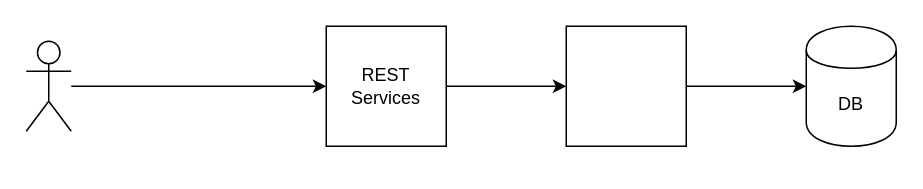
Some shapes in this 923 by 189 pixel diagram are drawn without their labels. Here are the shapes that lost their labels. From the top down, the centre of each, then its label:
point 48,85: User
point 625,85: Entity Mappings
